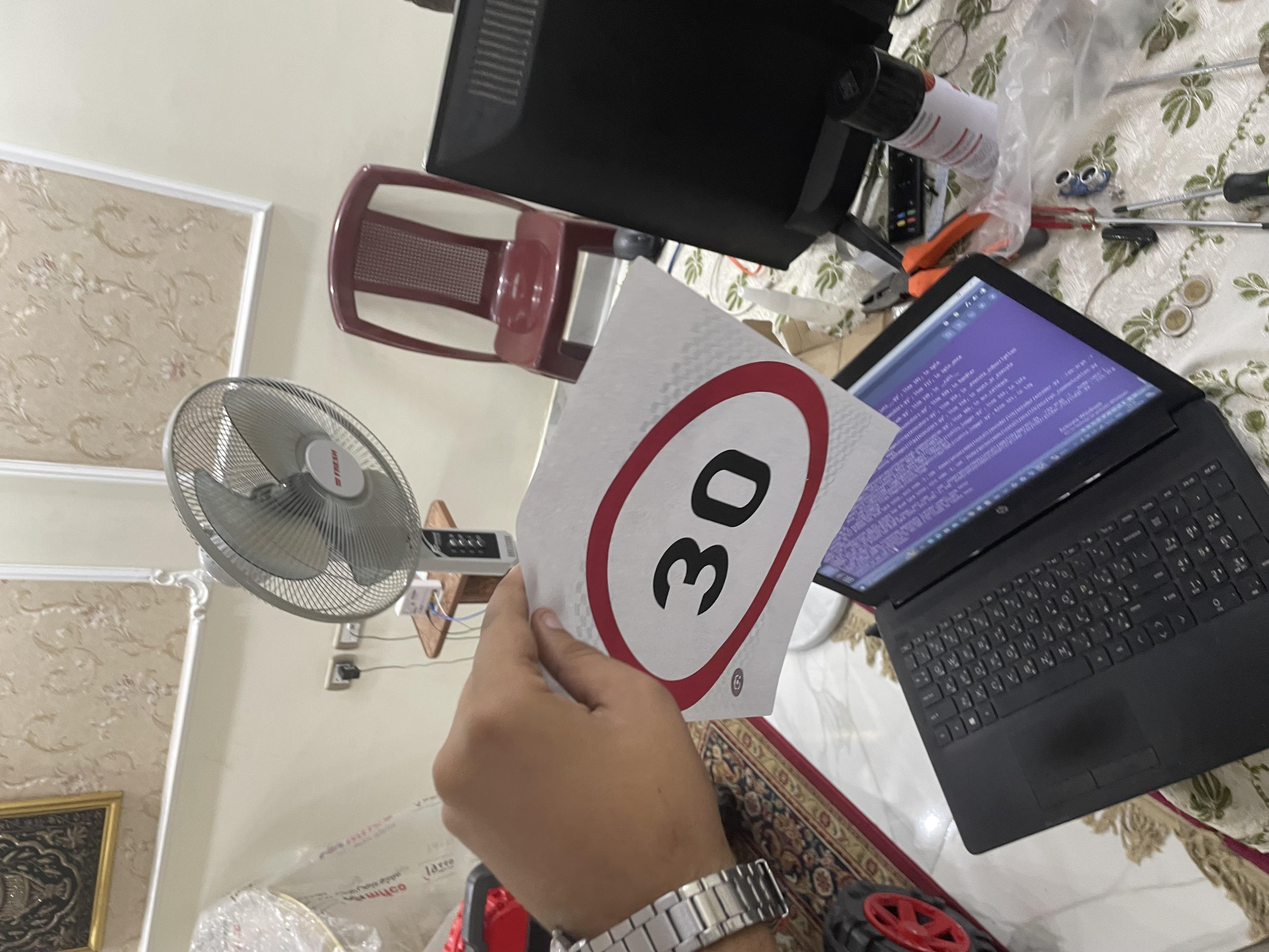30-speed: (358, 444, 804, 630)
